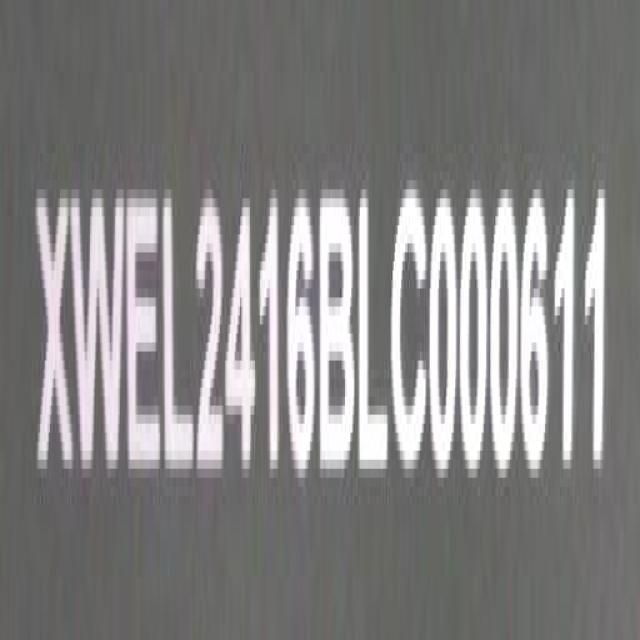0: (490, 186, 522, 485), (462, 182, 491, 482), (431, 183, 460, 482)
1: (586, 177, 610, 485), (259, 182, 283, 488), (556, 178, 579, 487)
2: (197, 186, 228, 490)
4: (224, 188, 256, 491)
6: (289, 185, 320, 486), (522, 185, 552, 488)
B: (319, 182, 356, 486)
C: (392, 186, 432, 485)
E: (128, 190, 162, 490)
L: (162, 187, 196, 488), (358, 184, 391, 484)
W: (72, 181, 127, 488)
X: (34, 184, 72, 491)
